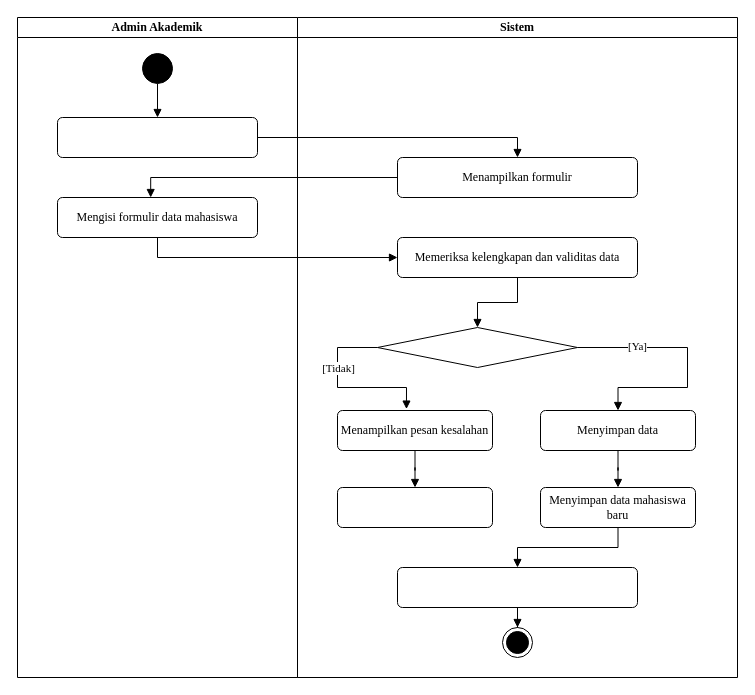
This 755x695 diagram has some shape labels left out. Here are the shapes that lost their labels. From the top down, the centre of each, then its label:
point 157,137: Memilih Tambah Data Mahasiswa
point 477,347: Data valid dan lengkap?
point 414,507: Memperbaiki data mahasiswa
point 517,587: Menampilkan notifikasi berhasil
